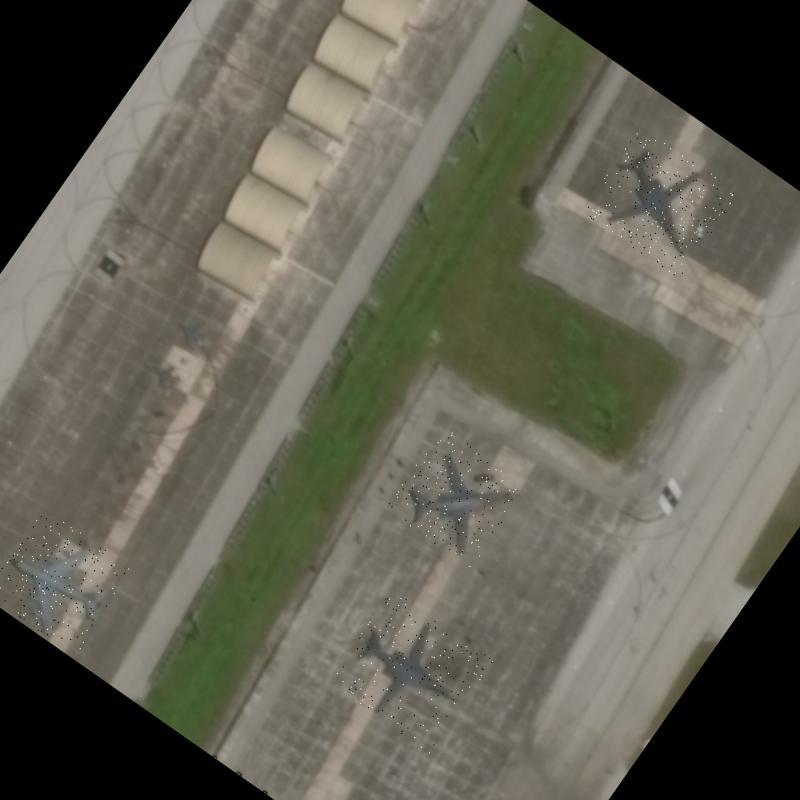A10: (327, 590, 494, 754), (580, 124, 740, 280), (384, 427, 530, 570)
A14: (0, 506, 135, 656)
